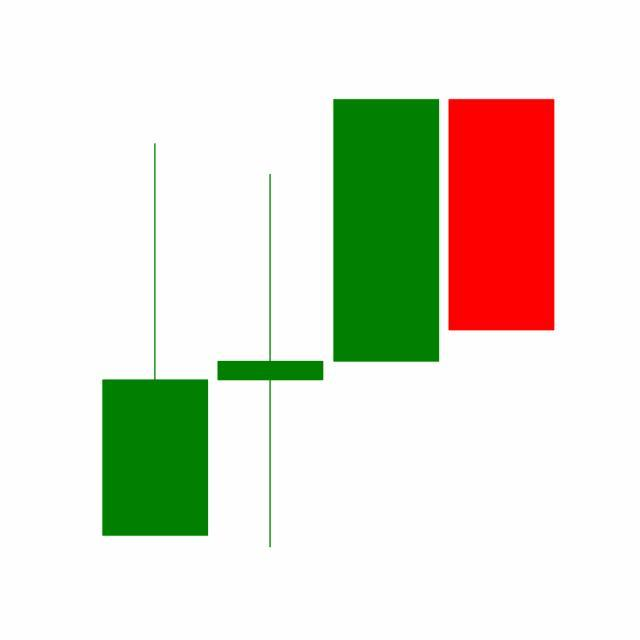Marubozu: (444, 97, 560, 334)
